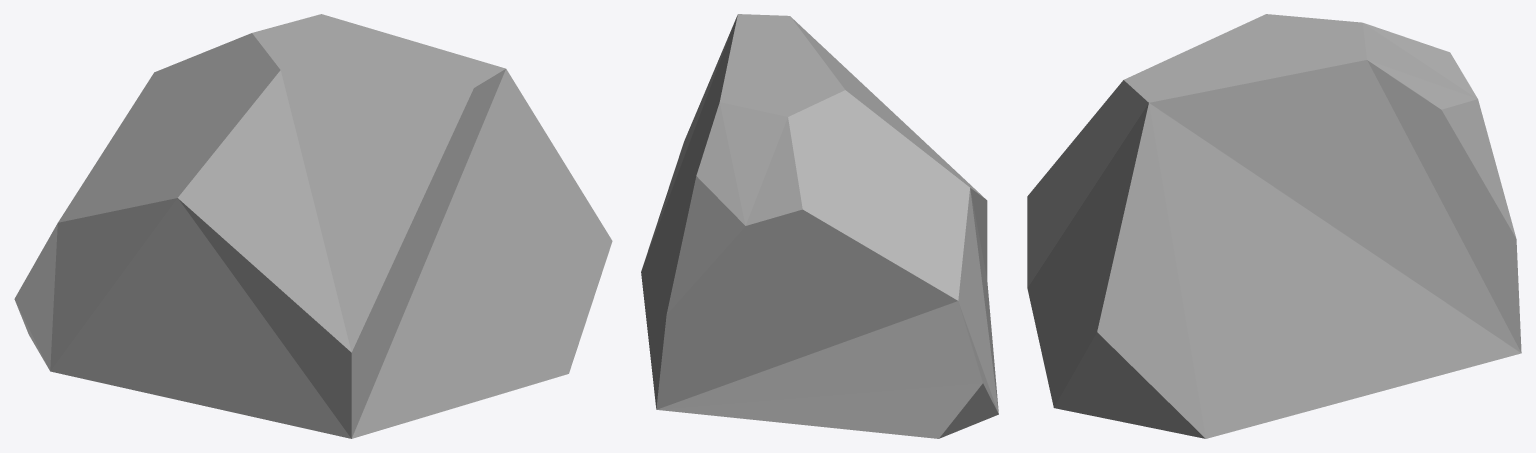
The model's file is Moyen_Calloux_01.fbx.
The picture shows the model from 3 angles, left to right: view 1: azimuth 30°, elevation 25°; view 2: azimuth 150°, elevation 25°; view 3: azimuth 270°, elevation 25°; orthographic projection. The views are drawn at different scales.
Parts seen in each view (by area): view 1: Moyen_Cailloux_01; view 2: Moyen_Cailloux_01; view 3: Moyen_Cailloux_01.
Part boxes in pixels (left/top/right/bottom): Moyen_Cailloux_01: left=14, top=14, right=612, bottom=438; Moyen_Cailloux_01: left=641, top=14, right=998, bottom=438; Moyen_Cailloux_01: left=1027, top=14, right=1521, bottom=438.
Size of the model in its own units: 215 by 124 by 188.
Materials: 1 (1 with a texture image).
